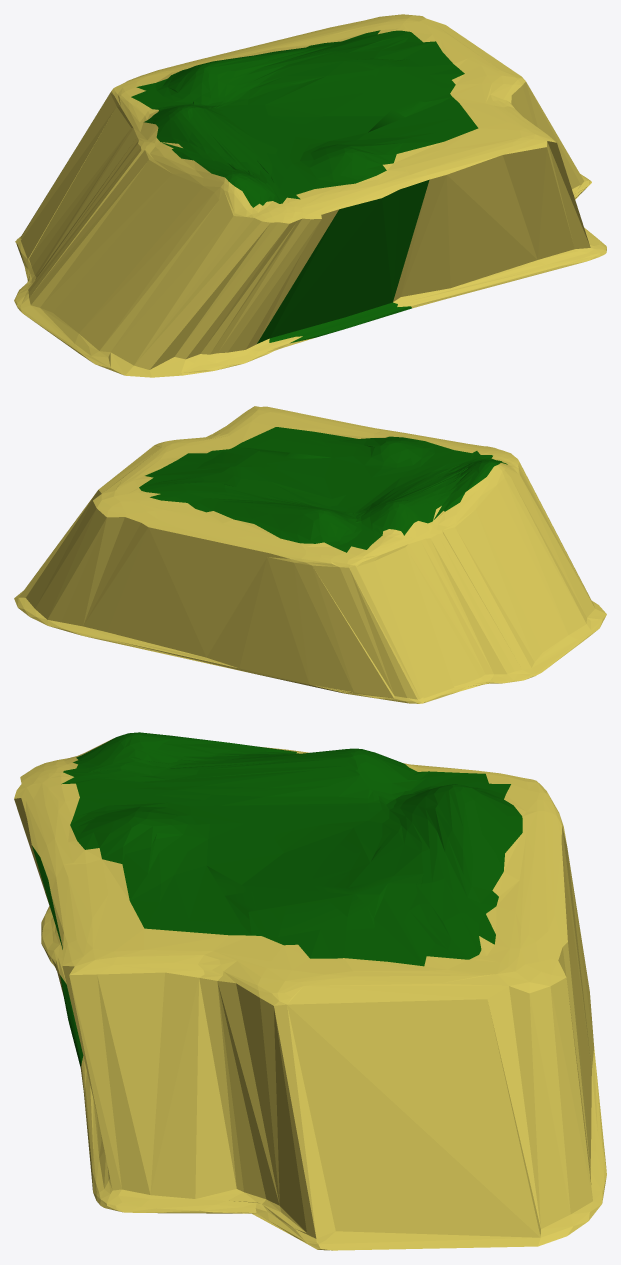
Rendered from Island7.FBX.
The picture shows the model from 3 angles, top to bottom: view 1: azimuth 30°, elevation 25°; view 2: azimuth 150°, elevation 25°; view 3: azimuth 270°, elevation 25°; orthographic projection. The views are drawn at different scales.
Parts seen in each view (by area): view 1: Sphere009; view 2: Sphere009; view 3: Sphere009.
Part boxes in pixels (bbox=[...]): Sphere009: bbox=[14, 14, 606, 377]; Sphere009: bbox=[14, 406, 606, 703]; Sphere009: bbox=[14, 732, 606, 1250].
Bounding box in the file's own units: 1189 × 770 × 334.
